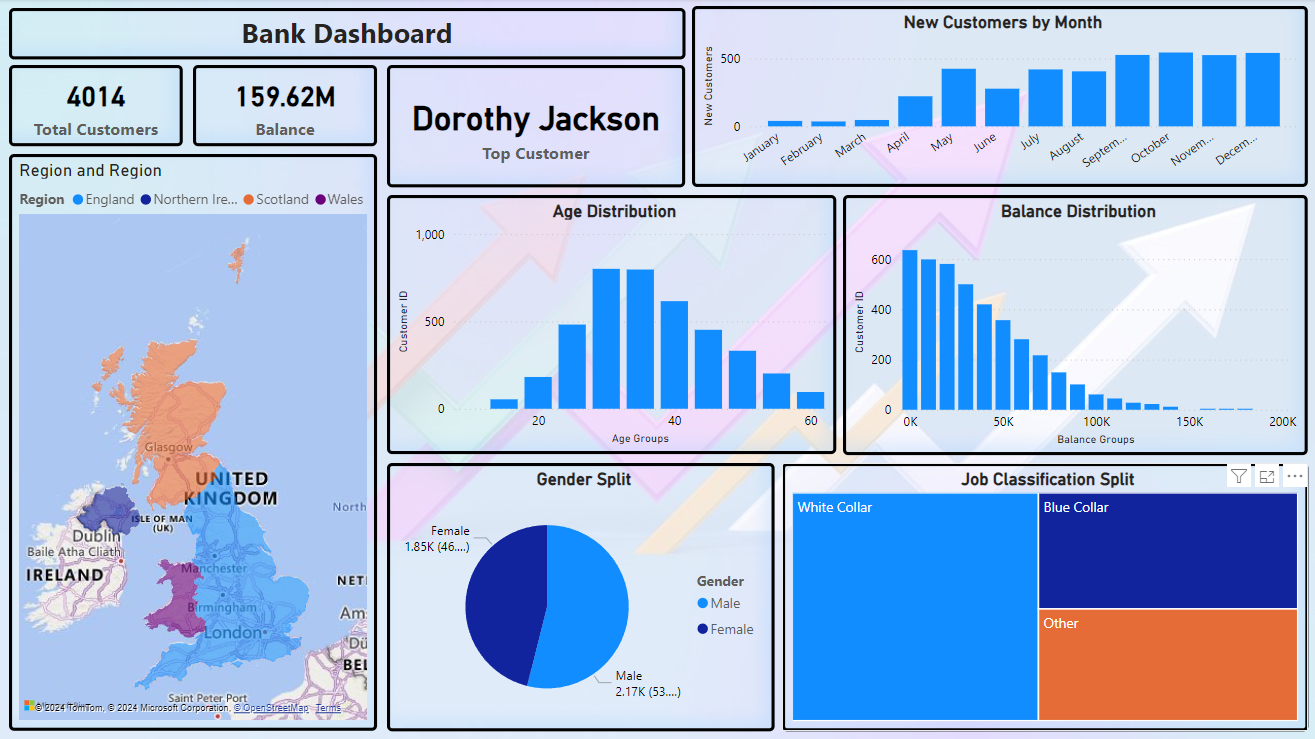

This screenshot's page, from the dashboard's own definition file:
{"tool":"powerbi","page":{"name":"Page 1","canvas":[1280,720],"ordinal":0},"visuals":[{"type":"image","box":[0,0,1280,719.8],"z":500},{"type":"card","fields":{"Values":["CountNonNull(Bank Data.Customer ID)"]},"box":[8.8,64.2,169.2,78.8],"z":1000},{"type":"card","fields":{"Values":["Sum(Bank Data.Balance)"]},"box":[187.7,64.2,179,78.8],"z":2000},{"type":"card","fields":{"Values":["Min(Bank Data.Customer Name)"]},"box":[376.4,64.2,289.8,118.7],"z":3000},{"type":"clusteredColumnChart","fields":{"Category":["Bank Data.Date Joined.Variation.Date Hierarchy.Month","Bank Data.Date Joined.Variation.Date Hierarchy.Day"],"Y":["CountNonNull(Bank Data.Customer ID)"]},"box":[673.1,6.8,599.1,176],"z":4000},{"type":"filledMap","fields":{"Category":["Bank Data.Region"],"Series":["Bank Data.Region"]},"box":[8.8,150.8,357.9,561.2],"z":5000},{"type":"pieChart","title":"Gender Split","fields":{"Category":["Bank Data.Gender"],"Y":["CountNonNull(Bank Data.Customer ID)"]},"box":[376.4,451.3,377.4,260.7],"z":6000},{"type":"treemap","title":"Job Classification Split","fields":{"Values":["CountNonNull(Bank Data.Customer ID)"],"Group":["Bank Data.Job Classification"]},"box":[760.6,451.3,511.6,260.7],"z":7000},{"type":"clusteredColumnChart","title":"Age Distribution","fields":{"Y":["CountNonNull(Bank Data.Customer ID)"],"Category":["Bank Data.Age Groups"]},"box":[376.4,190.6,436.7,251.9],"z":8000},{"type":"clusteredColumnChart","title":"Balance Distribution","fields":{"Category":["Bank Data.Balance Groups"],"Y":["CountNonNull(Bank Data.Customer ID)"]},"box":[819.9,190.6,452.3,252.9],"z":9000},{"type":"textbox","box":[8.8,8.8,657.5,49.6],"z":10000}]}

Visuals, with their boxes in screenshot pixels (x1, y1, x2, y2), scaled from the page's 1280x720 canvas onto the 1315x739 screenshot:
image: bbox=(0, 0, 1314, 738)
card - CountNonNull(Bank Data.Customer ID): bbox=(9, 66, 183, 147)
card - Sum(Bank Data.Balance): bbox=(193, 66, 377, 147)
card - Min(Bank Data.Customer Name): bbox=(387, 66, 684, 188)
clusteredColumnChart - Bank Data.Date Joined.Variation.Date Hierarchy.Month x Bank Data.Date Joined.Variation.Date Hierarchy.Day: bbox=(692, 7, 1307, 188)
filledMap - Bank Data.Region x Bank Data.Region: bbox=(9, 155, 377, 731)
"Gender Split" pieChart: bbox=(387, 463, 774, 731)
"Job Classification Split" treemap: bbox=(781, 463, 1307, 731)
"Age Distribution" clusteredColumnChart: bbox=(387, 196, 835, 454)
"Balance Distribution" clusteredColumnChart: bbox=(842, 196, 1307, 455)
textbox: bbox=(9, 9, 685, 60)
